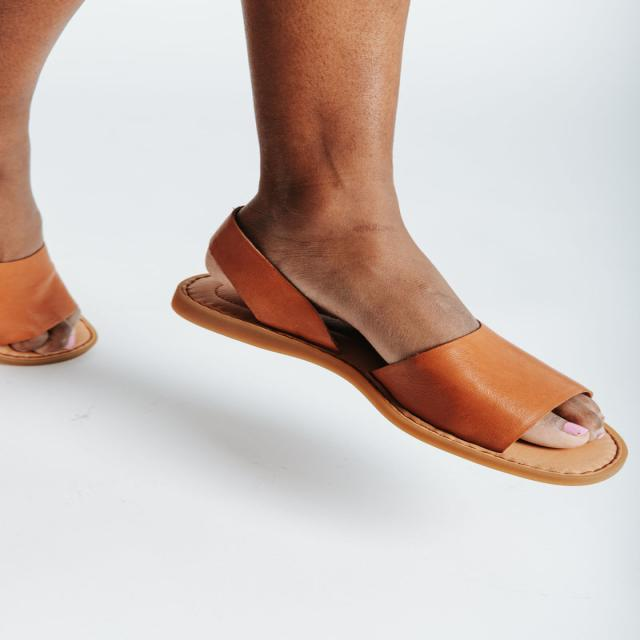Sandals: (166, 180, 630, 488)
